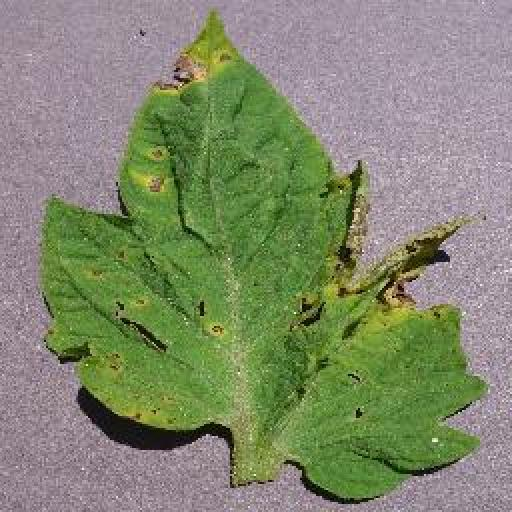Septoria: (33, 10, 492, 502)
